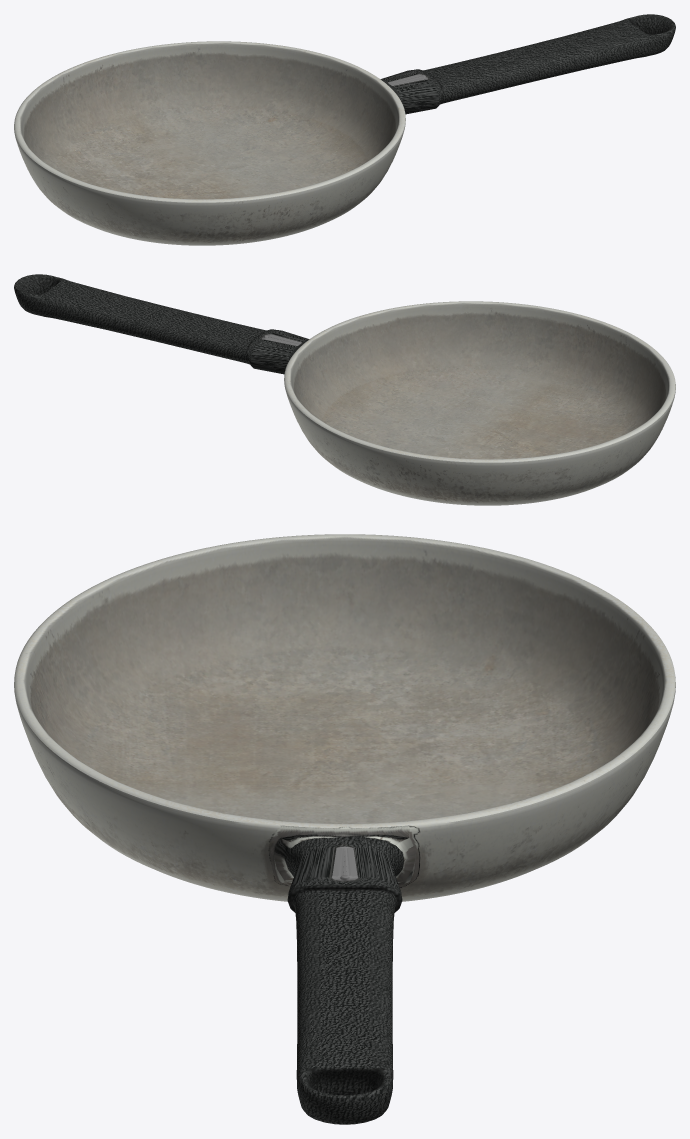
File: padella.obj
3 renders of one model, top to bottom at view 1: azimuth 30°, elevation 25°; view 2: azimuth 150°, elevation 25°; view 3: azimuth 270°, elevation 25°, orthographic. The views are drawn at different scales.
Visible parts, largest first — view 1: frying_pan_Subdiv; view 2: frying_pan_Subdiv; view 3: frying_pan_Subdiv.
Part boxes in pixels (<box>): frying_pan_Subdiv: <box>14,14,675,245</box>; frying_pan_Subdiv: <box>14,274,675,505</box>; frying_pan_Subdiv: <box>14,534,675,1124</box>.
Size of the model in its own units: 1.33 by 0.1375 by 0.6807.
Materials: 1 (1 with a texture image).
